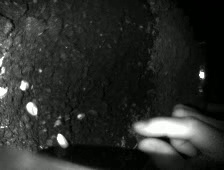corn: (56, 133, 68, 149), (26, 101, 38, 116), (77, 113, 85, 120)
